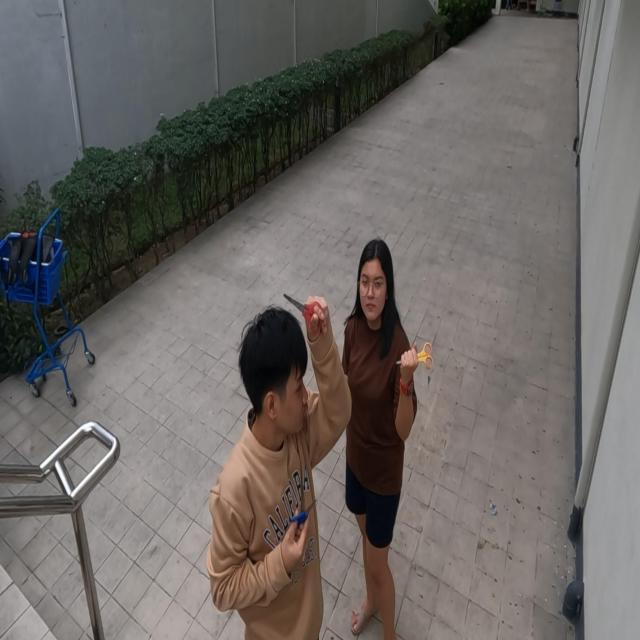scissor: (283, 294, 325, 334), (396, 343, 433, 370), (292, 498, 318, 529)
